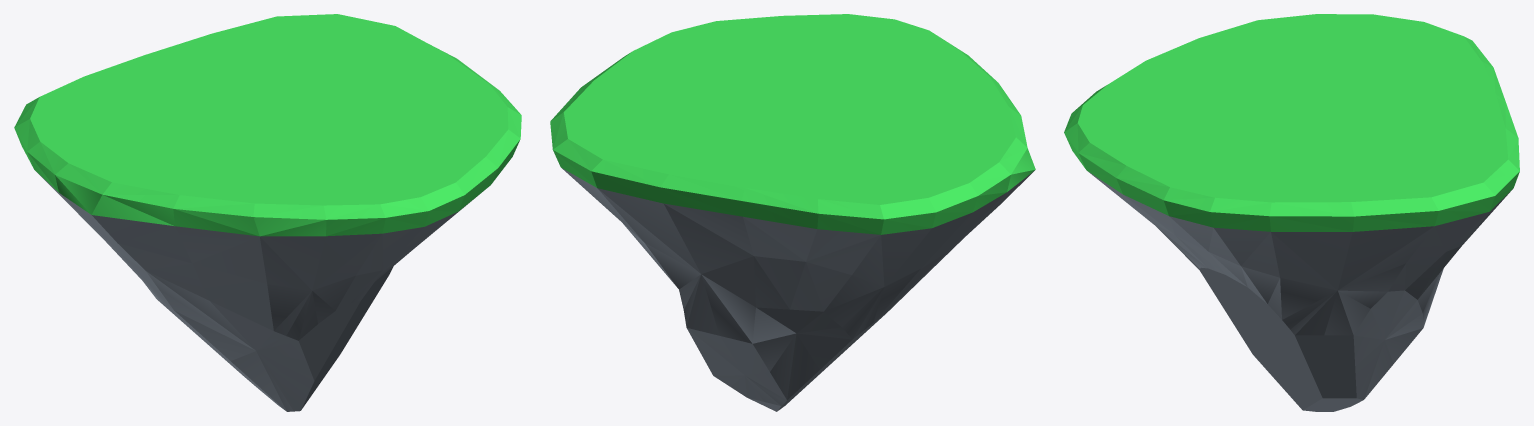
The model's file is testmodelsisland_Cube.fbx.
3 views of the same model, side by side, from view 1: azimuth 30°, elevation 25°; view 2: azimuth 150°, elevation 25°; view 3: azimuth 270°, elevation 25° (orthographic). The views are drawn at different scales.
Visible parts, largest first — view 1: island_Cube; view 2: island_Cube; view 3: island_Cube.
Boxes of the visible parts, box(x1,y1,x2,y2) form: island_Cube: box(14, 14, 521, 411); island_Cube: box(550, 14, 1035, 411); island_Cube: box(1064, 14, 1519, 411).
Size of the model in its own units: 3769 by 2587 by 3634.
